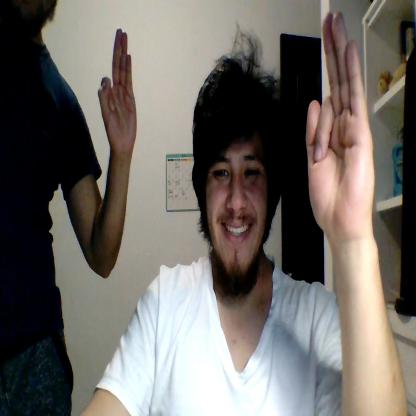F: (306, 11, 376, 228), (97, 26, 137, 150)
